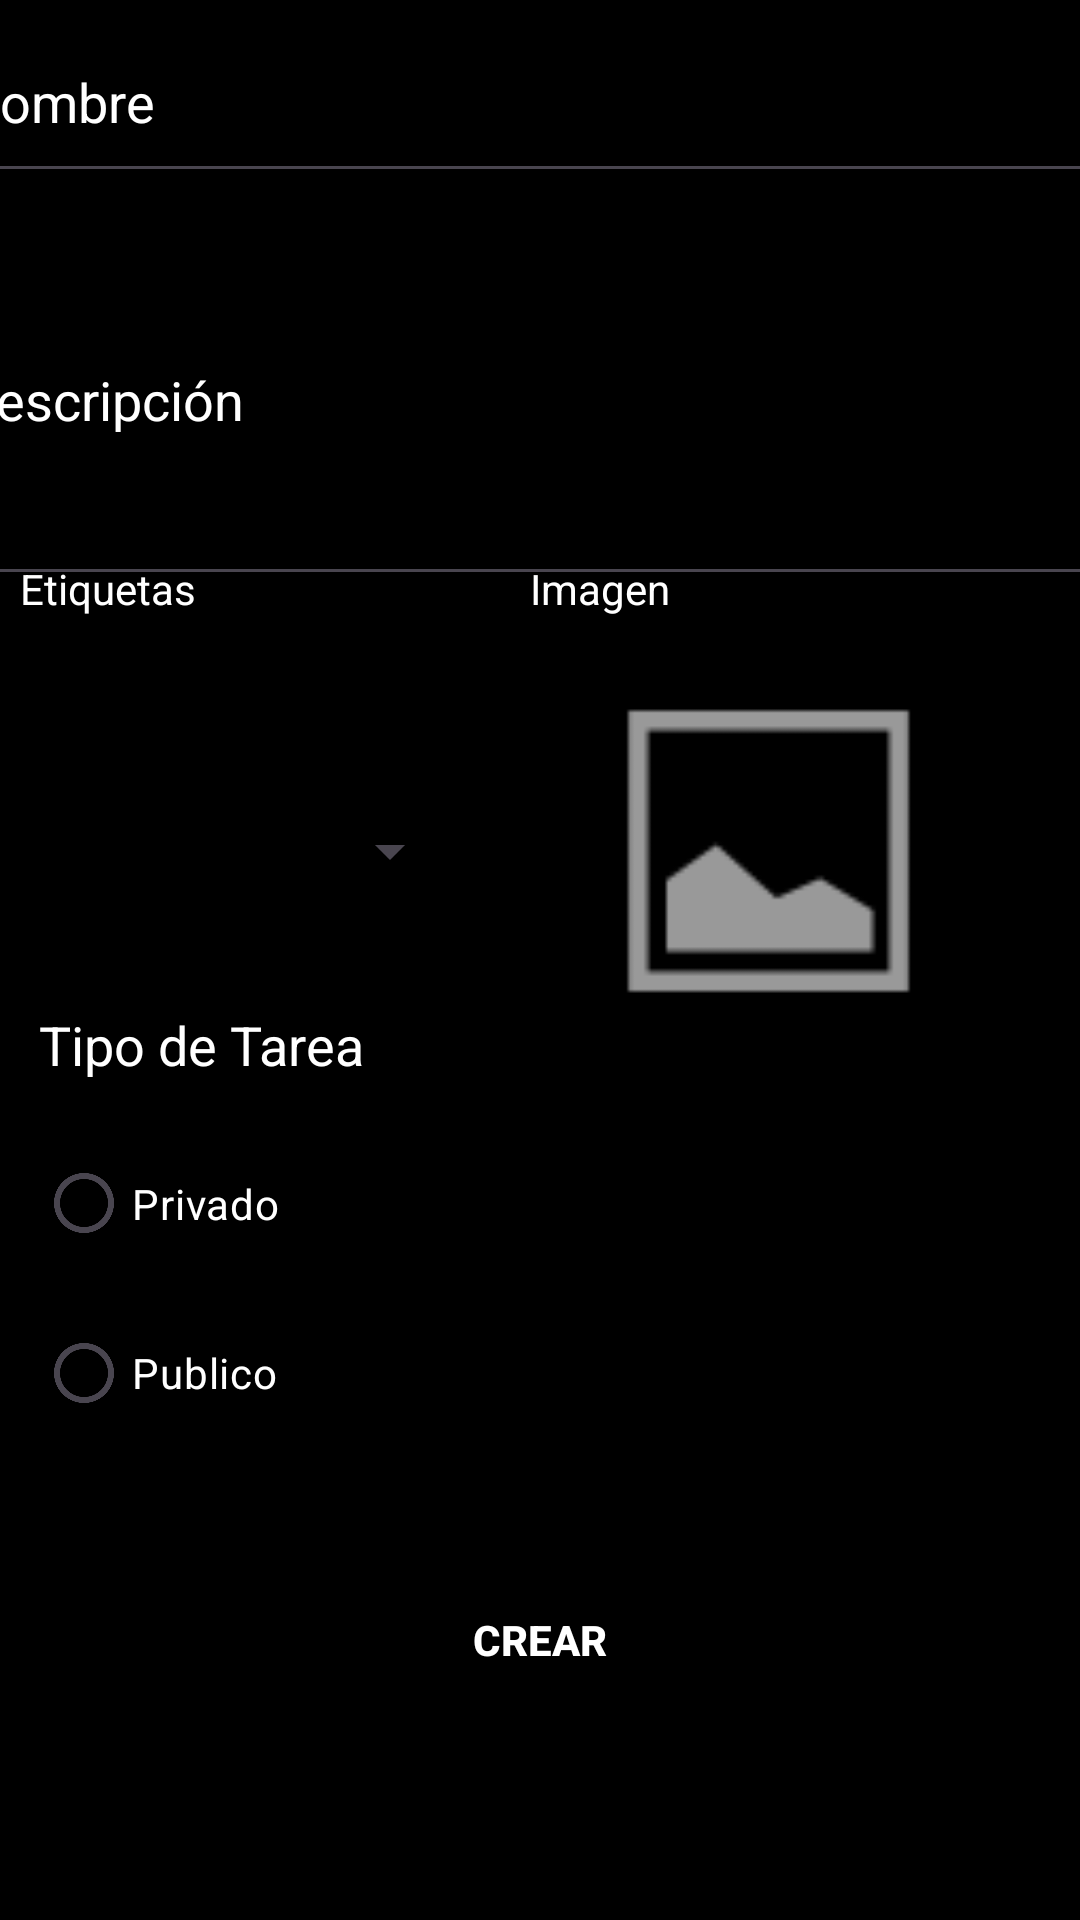

Screen size 1080 × 1920. Icon name, then its center in pixels as [x,y]:
gallery: [768,851]
